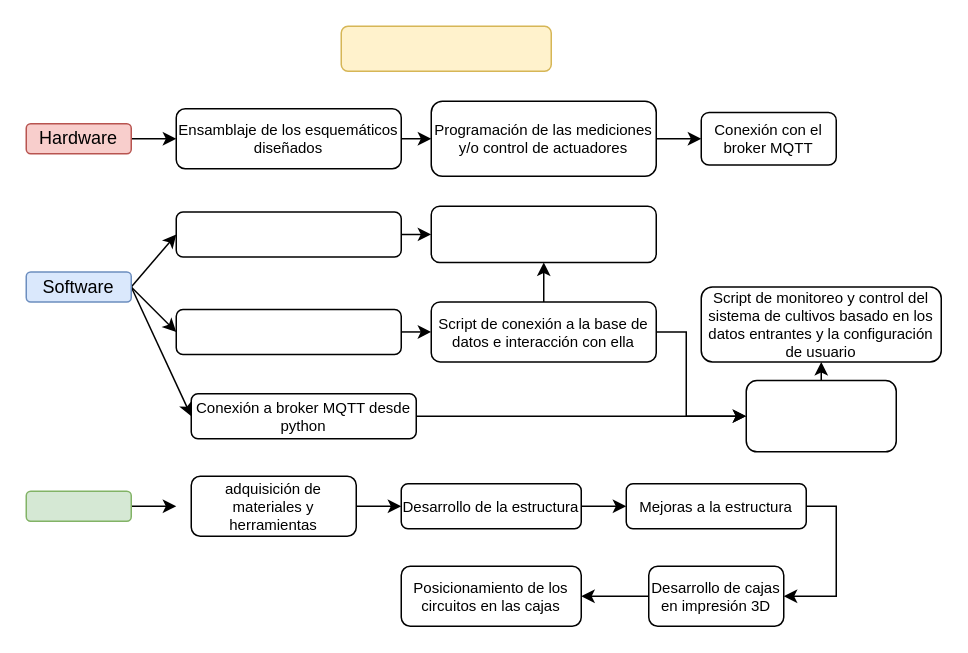
The diagram is 968 pixels wide and 653 high, and some of its shapes have lost their labels. The shapes that lost their labels are listed below. From the top down, each one's box as (x1, y1, x2, y2) in pixels, then its label:
(340, 25, 551, 71): Etapa desarrollo
(175, 210, 401, 257): Desarrollo de la interfaz web
(430, 205, 656, 262): Añadido de funcionalidades a la página
(175, 308, 401, 354): Desarrollo del esquema de la base de datos
(745, 379, 896, 452): Interconexión entre base de datos y broker MQTT
(25, 490, 131, 521): Prototipado
